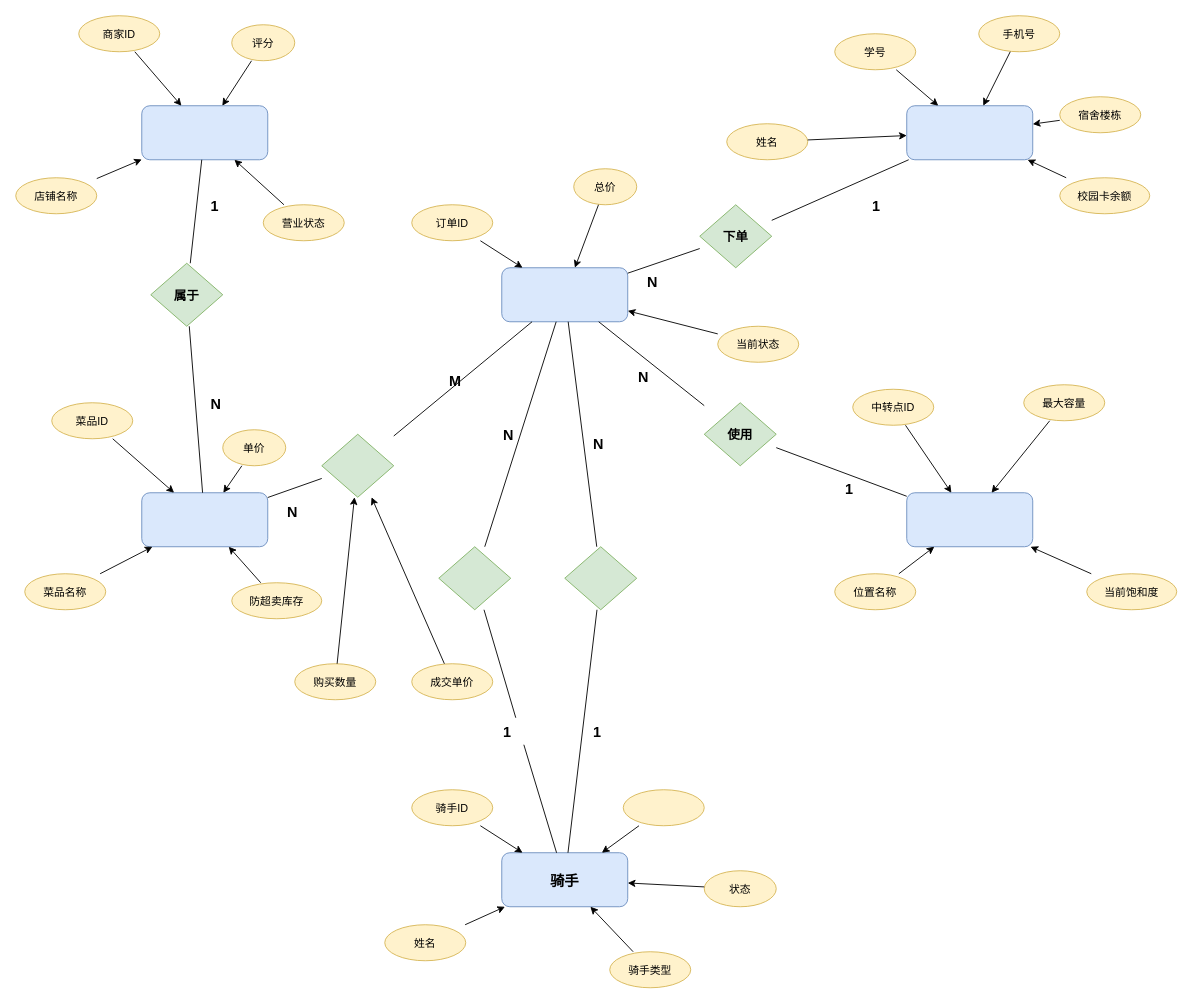
The diagram is 1193 pixels wide and 1004 high, and some of its shapes have lost their labels. The shapes that lost their labels are listed below. From the top down, each one's centre as x and y in pixels, then its label:
At [204,132]: "商家".
At [969,132]: "学生用户".
At [564,294]: "订单".
At [357,465]: "包含".
At [204,519]: "菜品".
At [969,519]: "寄存中转点".
At [474,578]: "干线配送".
At [600,578]: "楼栋配送".
At [663,807]: "联系电话".
